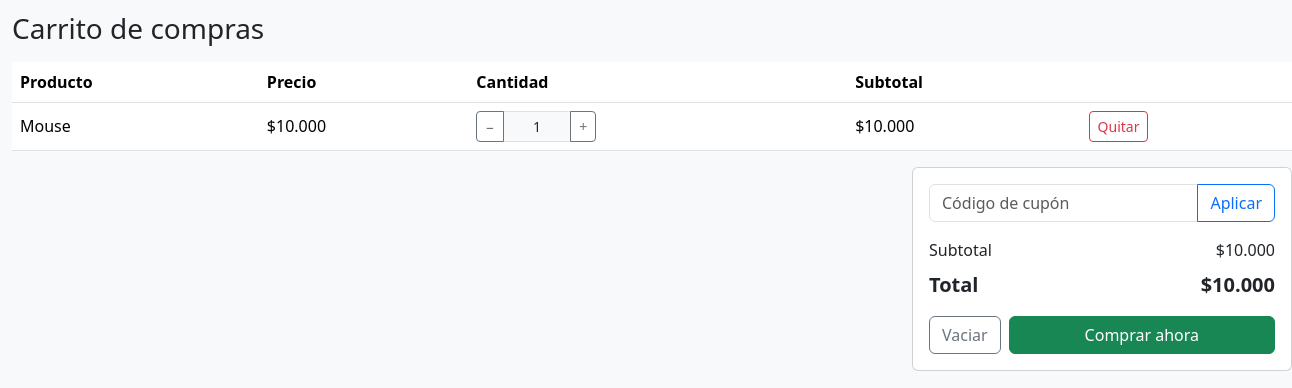
Test case: Carrito (página) › disminuir la cantidad a cero quita el producto del carrito
Click the button named "Disminuir cantidad de Mouse" at (490, 126), box [476,111,504,142]
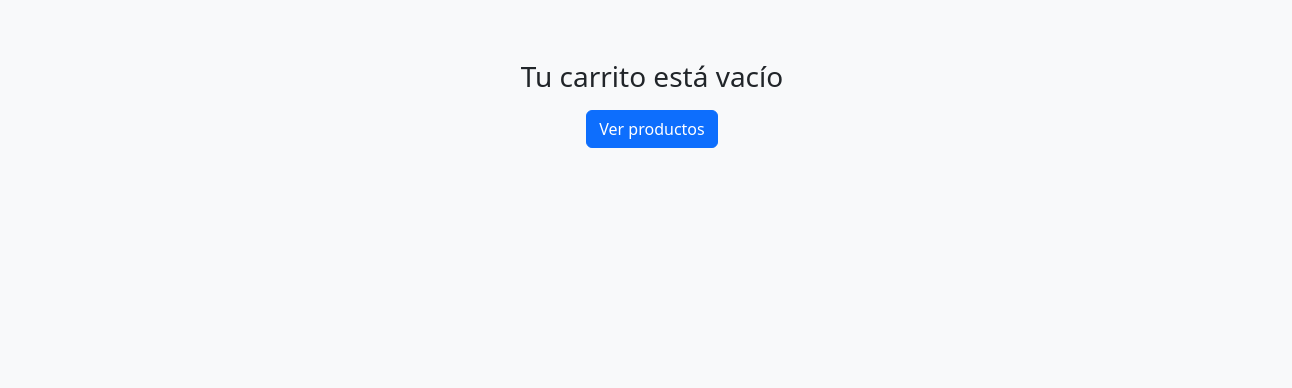
Expected: the heading "Tu carrito está vacío" is shown, [521,57,783,95]
